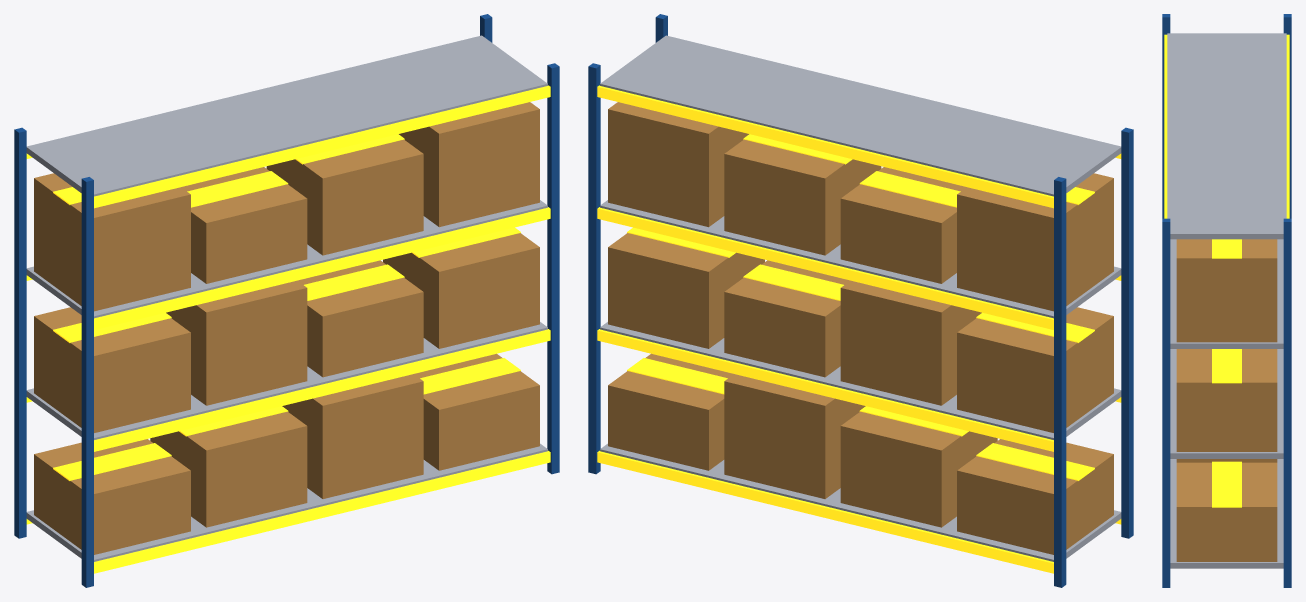
Rendered from lgx-006.glb.
3 views of the same model, side by side, from view 1: azimuth 30°, elevation 25°; view 2: azimuth 150°, elevation 25°; view 3: azimuth 270°, elevation 25° (orthographic). The views are drawn at different scales.
Visible parts, largest first — view 1: pastry, steel, sign_yellow, airline_blue; view 2: pastry, steel, sign_yellow, airline_blue; view 3: steel, pastry, airline_blue, sign_yellow.
Boxes of the visible parts, x1,y1,x2,y2 form: pastry: (34,102,539,554); steel: (26,35,547,561); sign_yellow: (26,85,550,573); airline_blue: (14,14,559,587); pastry: (608,102,1113,554); steel: (600,35,1121,561); sign_yellow: (597,85,1121,573); airline_blue: (588,14,1133,587); steel: (1167,33,1286,568); pastry: (1176,239,1277,561); airline_blue: (1162,14,1291,587); sign_yellow: (1164,34,1289,507).
Size of the model in its own units: 2.44 by 2 by 0.64.
